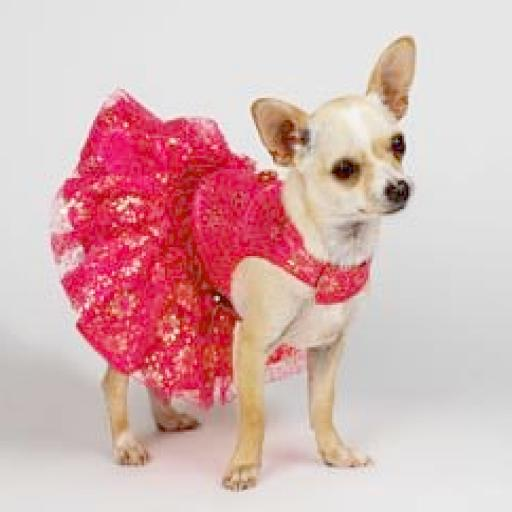dog_face: (257, 32, 426, 213)
